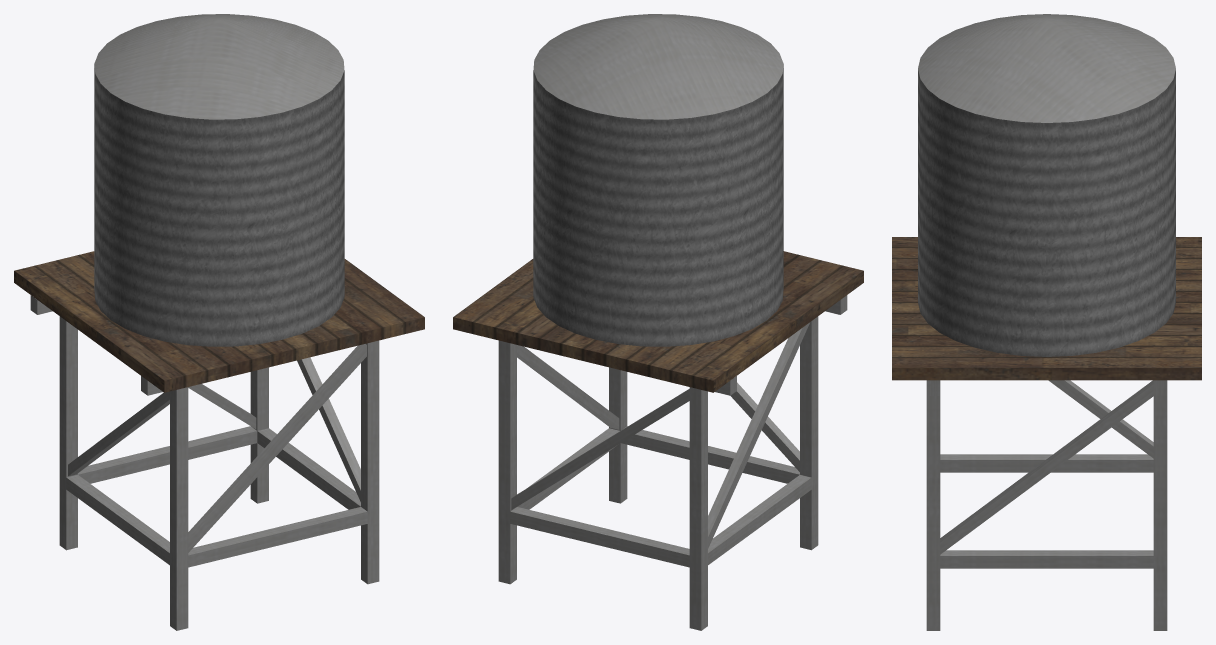
File: water-tank-stand-2x2-cbj_LOD00.gltf
3 renders of one model, left to right at view 1: azimuth 30°, elevation 25°; view 2: azimuth 150°, elevation 25°; view 3: azimuth 270°, elevation 25°, orthographic. The views are drawn at different scales.
Visible parts, largest first — view 1: tank0; view 2: tank0; view 3: tank0.
Boxes of the visible parts, box(x1,y1,x2,y2) form: tank0: box(14, 14, 424, 630); tank0: box(453, 14, 863, 630); tank0: box(892, 14, 1201, 630).
Bounding box in the file's own units: 1.8 × 3.58 × 1.8.
